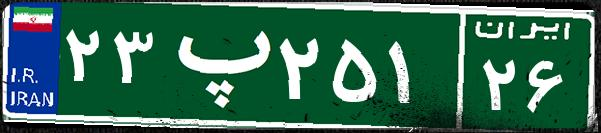1: (385, 28, 445, 110)
2: (273, 28, 330, 110), (57, 26, 110, 107), (475, 38, 525, 113)
3: (110, 28, 158, 105)
5: (330, 28, 385, 110)
6: (525, 38, 570, 115)
پ: (158, 15, 273, 115)
